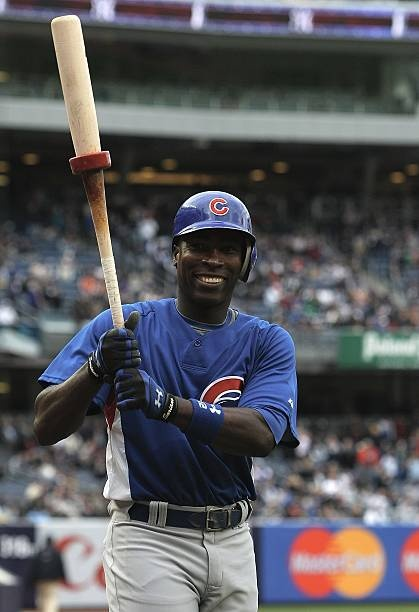bita: (45, 17, 129, 338)
